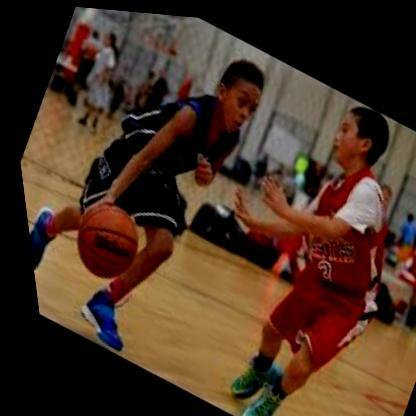basketball: (56, 192, 146, 288)
